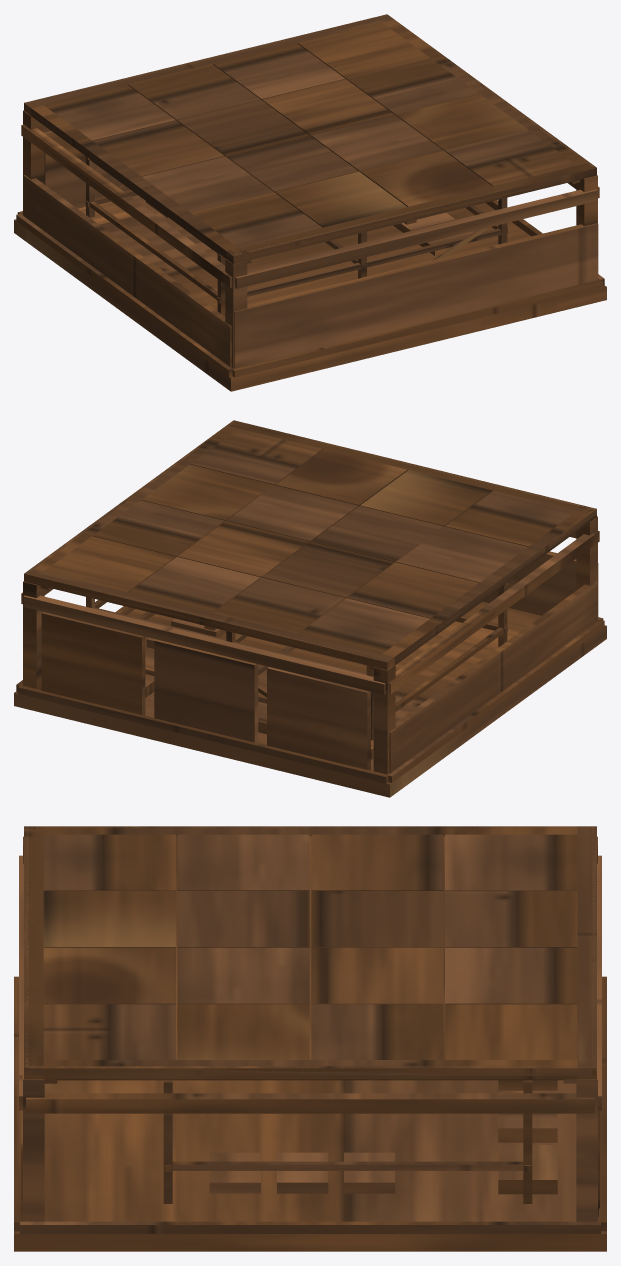
File: ConstructionStage0.fbx
3 renders of one model, top to bottom at view 1: azimuth 30°, elevation 25°; view 2: azimuth 150°, elevation 25°; view 3: azimuth 270°, elevation 25°, orthographic. The views are drawn at different scales.
Visible parts, largest first — view 1: SM_HDBF_BoxFarm_ConstructionStage0; view 2: SM_HDBF_BoxFarm_ConstructionStage0; view 3: SM_HDBF_BoxFarm_ConstructionStage0.
Part boxes in pixels (left/top/right/bottom): SM_HDBF_BoxFarm_ConstructionStage0: left=14, top=14, right=606, bottom=391; SM_HDBF_BoxFarm_ConstructionStage0: left=14, top=420, right=606, bottom=797; SM_HDBF_BoxFarm_ConstructionStage0: left=14, top=826, right=606, bottom=1251.
Bounding box in the file's own units: 3 × 1 × 3.
2 materials, 2 textured.
